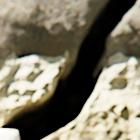brick: (0, 130, 18, 139)
broken_brick: (0, 0, 105, 61), (101, 0, 139, 64)
crack: (1, 0, 138, 139)
